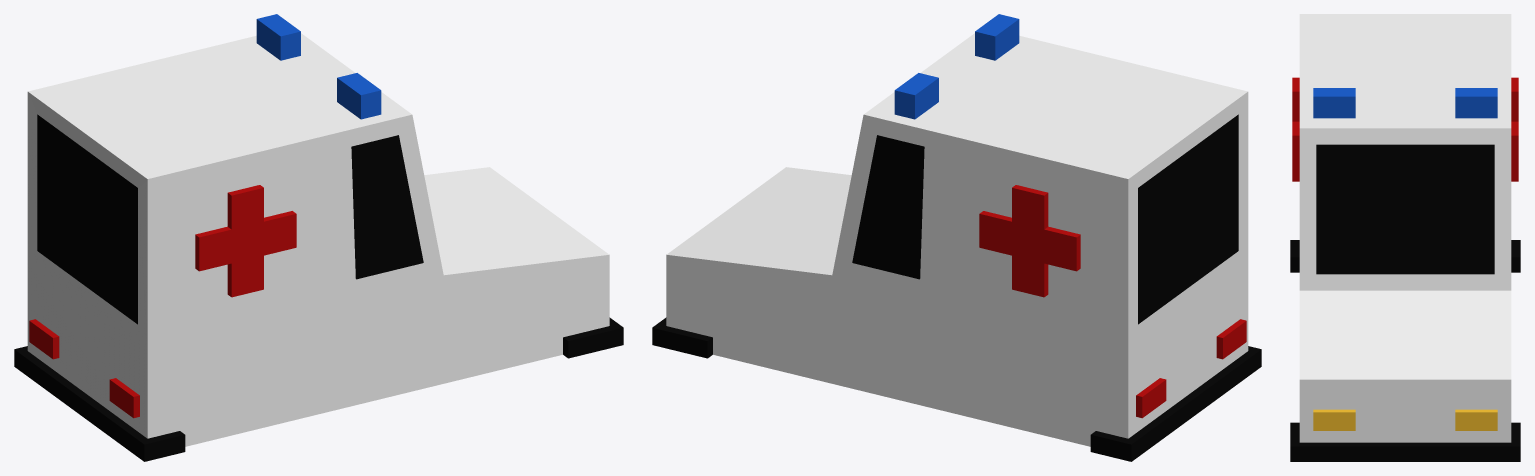
The model's file is CityCar_Ambulance.fbx.
The picture shows the model from 3 angles, left to right: view 1: azimuth 30°, elevation 25°; view 2: azimuth 150°, elevation 25°; view 3: azimuth 270°, elevation 25°; orthographic projection. The views are drawn at different scales.
Parts seen in each view (by area): view 1: CityCar_Ambulance; view 2: CityCar_Ambulance; view 3: CityCar_Ambulance.
Boxes of the visible parts, <box> form: CityCar_Ambulance: <box>14,14,623,461</box>; CityCar_Ambulance: <box>652,14,1261,461</box>; CityCar_Ambulance: <box>1290,14,1520,461</box>.
Bounding box in the file's own units: 0.4902 × 0.2943 × 0.2307.
